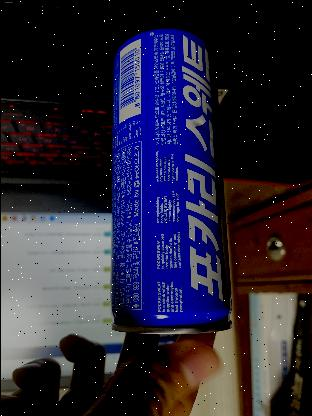Can: (107, 21, 232, 337)
